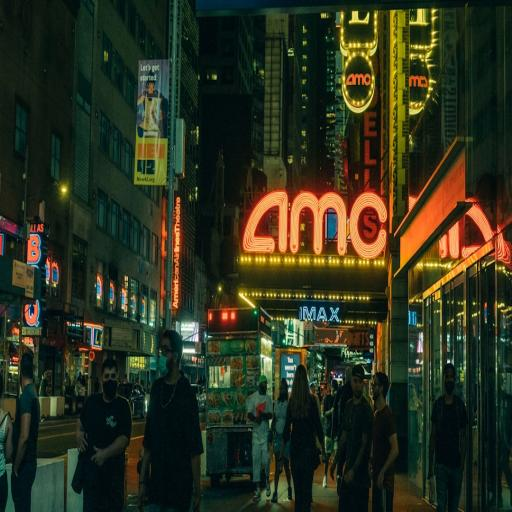face: (161, 338, 176, 369), (444, 368, 455, 394), (351, 376, 363, 399), (372, 377, 382, 400), (102, 368, 118, 382)
